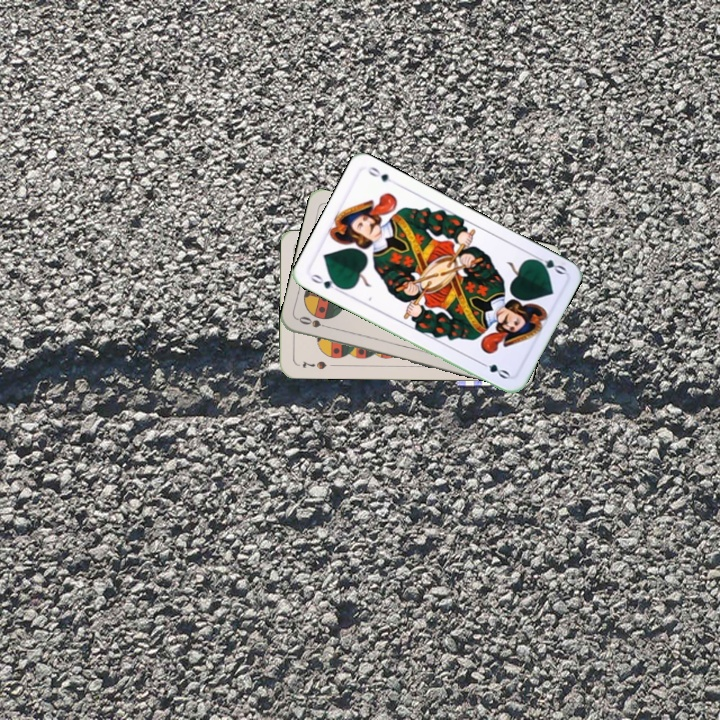GO: (528, 251, 568, 277), (307, 270, 345, 296)
S7: (298, 357, 329, 372)
SO: (295, 312, 334, 332)
